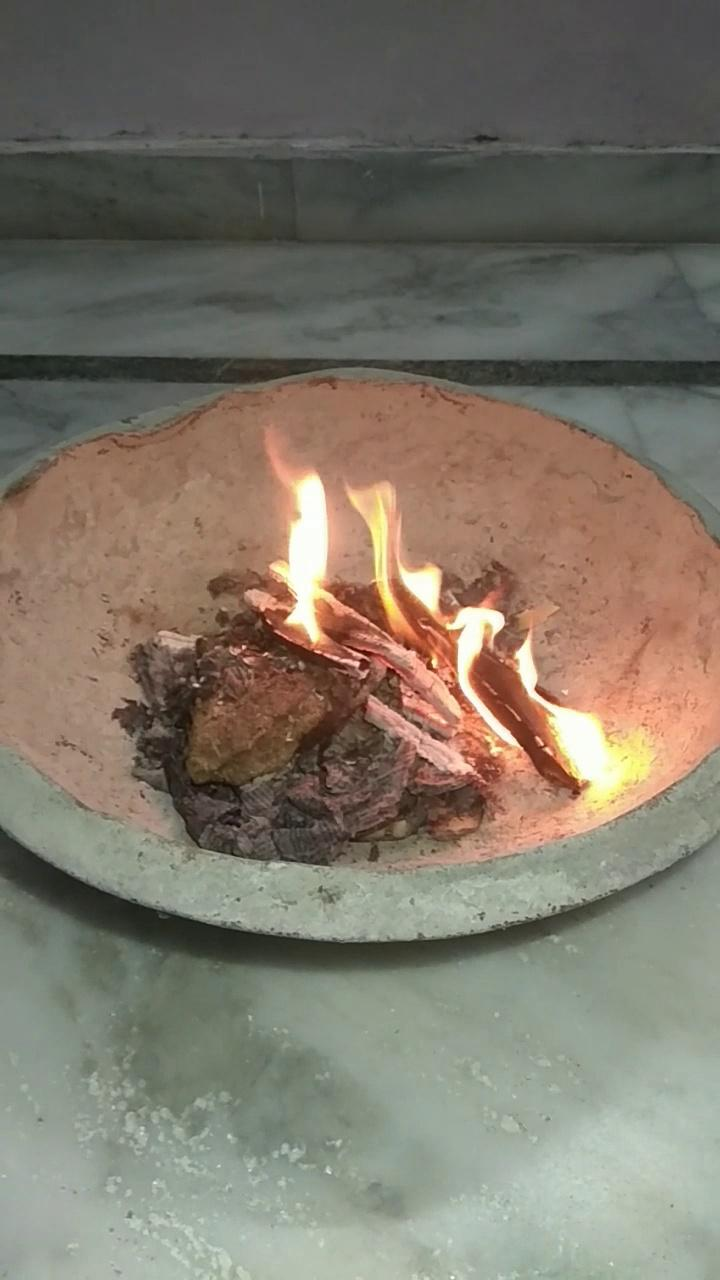fire: (225, 448, 668, 792)
